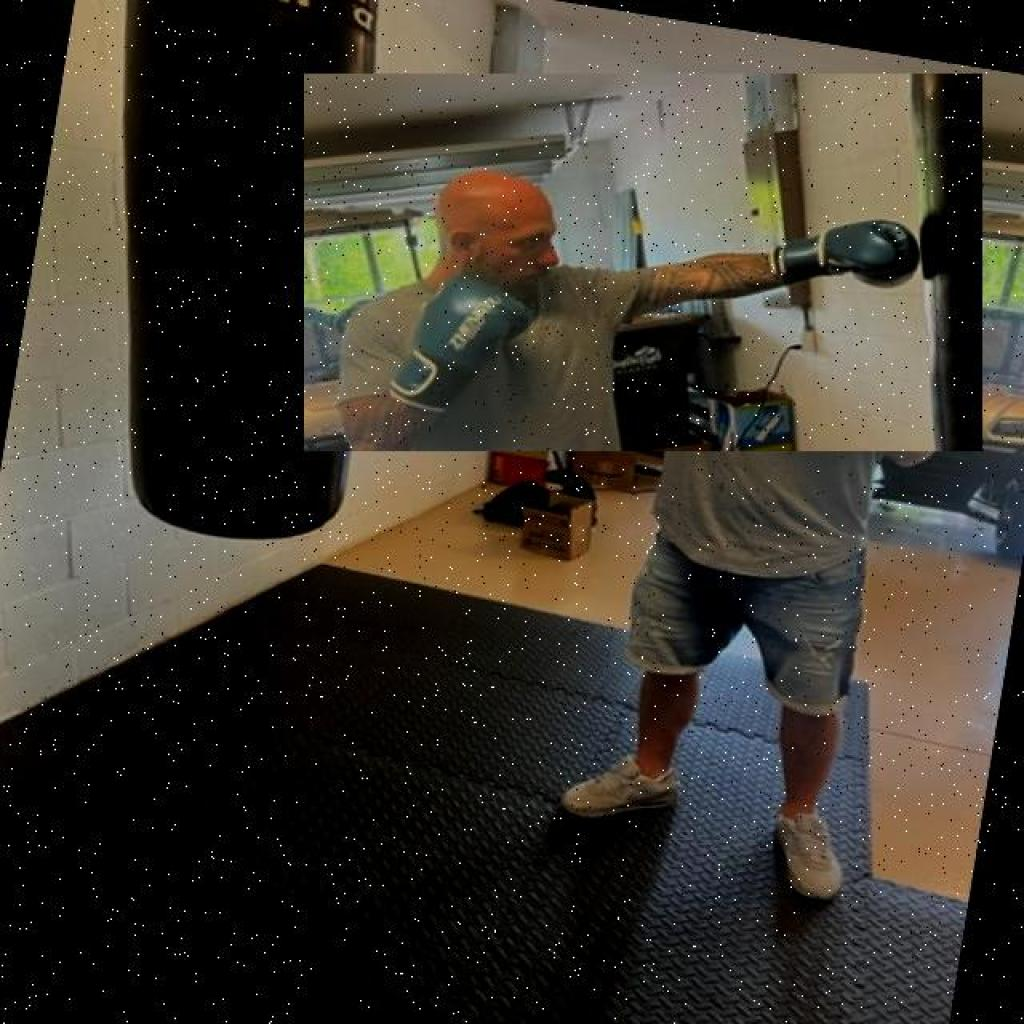jab: (304, 74, 983, 452)
